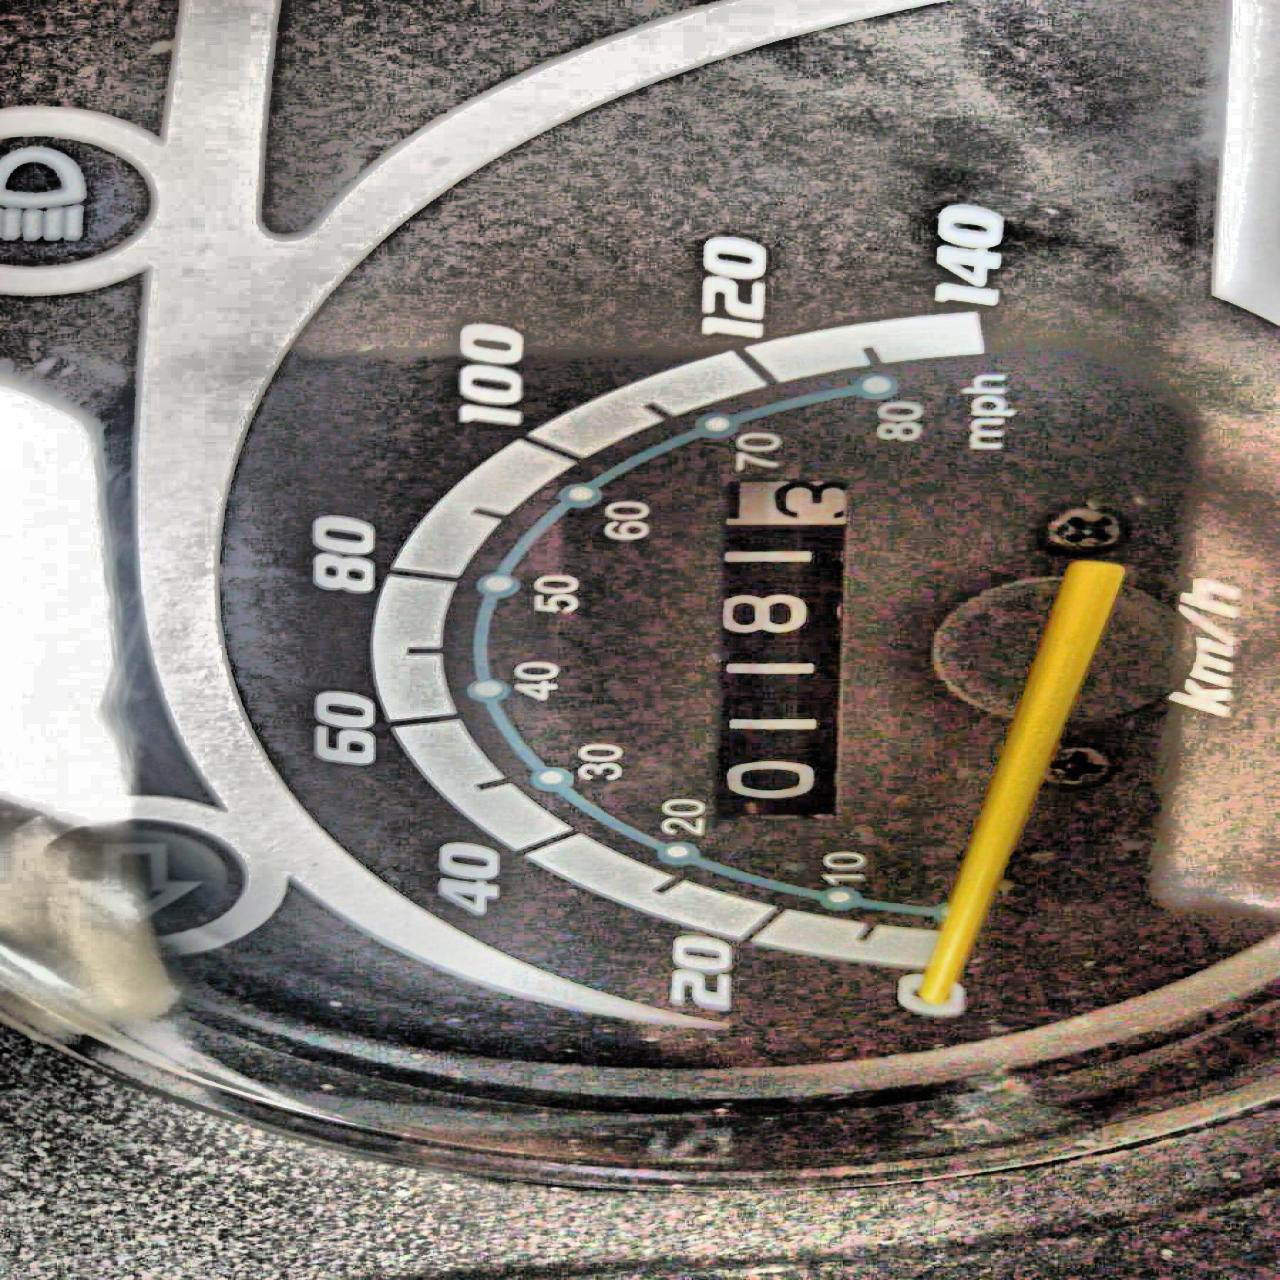0: (716, 753, 835, 802)
1: (709, 539, 849, 572), (719, 707, 851, 735), (707, 655, 846, 679)
3: (761, 479, 866, 522)
8: (709, 587, 828, 634)
odometer: (697, 476, 883, 823)
